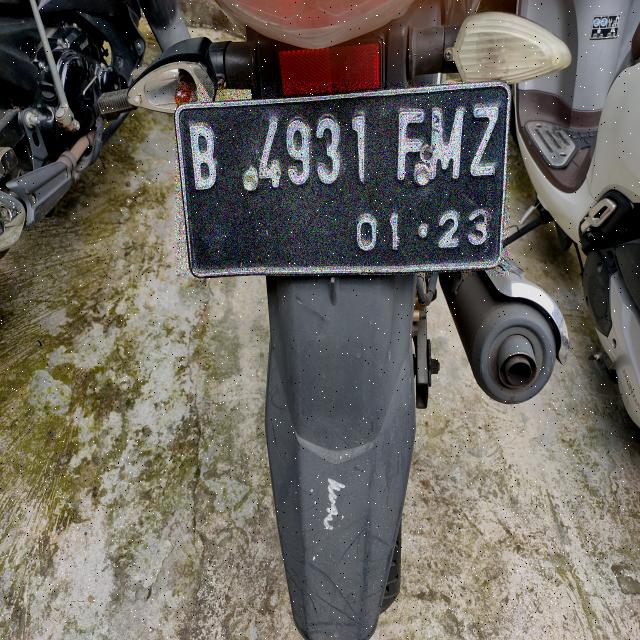plate: (176, 83, 509, 275)
